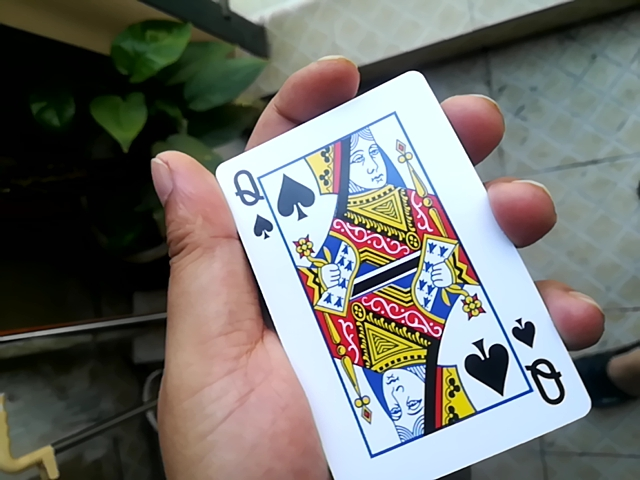ht q: (209, 63, 592, 475)
